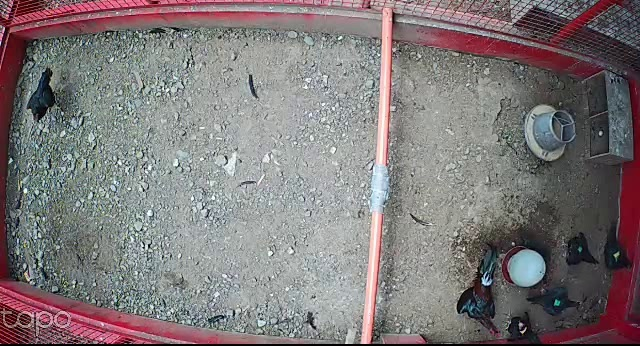Chicken: (24, 64, 61, 133), (526, 282, 585, 318), (558, 228, 603, 271), (499, 307, 547, 346), (601, 222, 635, 275)
Drinker: (499, 245, 547, 288)
Feeder: (523, 102, 576, 168)
Rooster: (455, 242, 508, 339)
Saddle_Color_Yellow: (518, 326, 528, 334)
Saddle_Color_YellowGreen: (612, 249, 622, 262)
